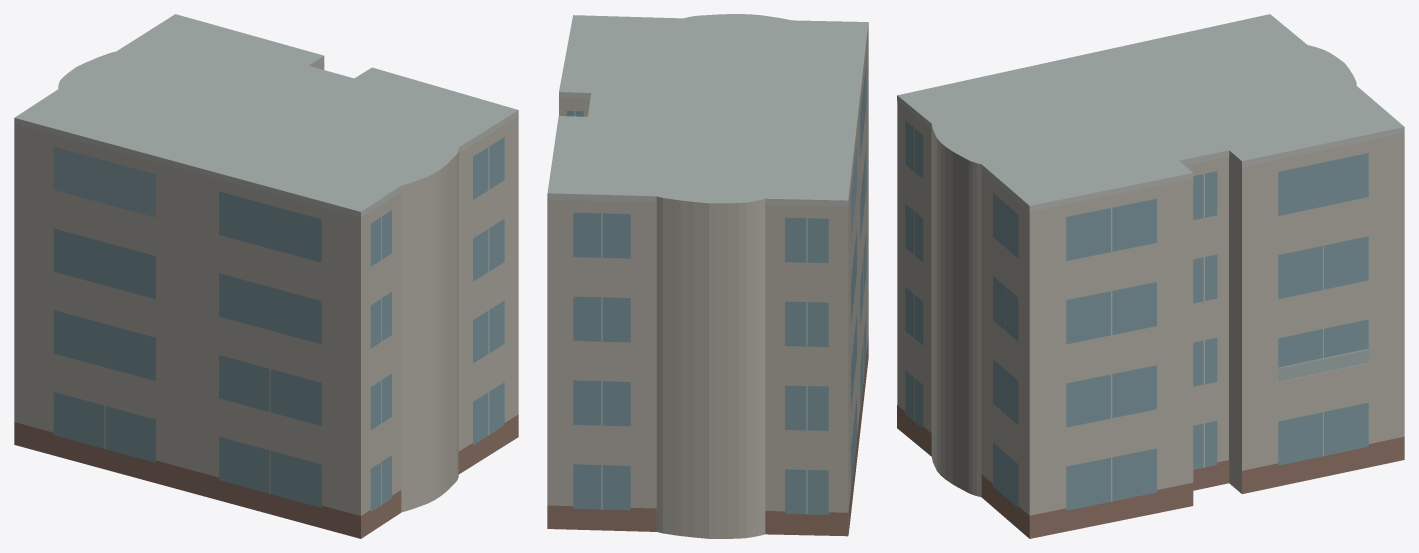
Rendered from survey-upis-32741607.glb.
3 views of the same model, side by side, from view 1: azimuth 30°, elevation 25°; view 2: azimuth 150°, elevation 25°; view 3: azimuth 270°, elevation 25° (orthographic). The views are drawn at different scales.
Visible parts, largest first — view 1: survey-upis-32741607.tmp; view 2: survey-upis-32741607.tmp; view 3: survey-upis-32741607.tmp.
Part boxes in pixels (x1,y1,x2,y2): survey-upis-32741607.tmp: [14, 14, 518, 538]; survey-upis-32741607.tmp: [547, 14, 868, 538]; survey-upis-32741607.tmp: [897, 14, 1404, 538].
Size of the model in its own units: 16.7 by 13.5 by 18.66.
